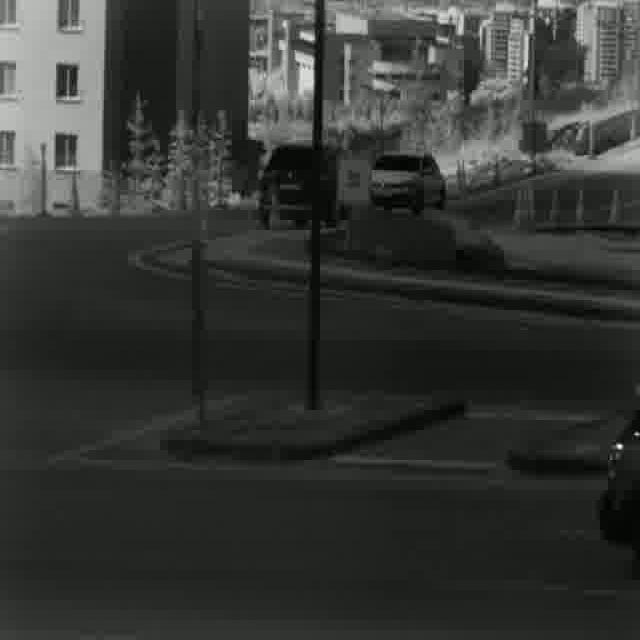Car: (594, 394, 640, 560), (255, 139, 348, 221), (366, 150, 444, 212)
